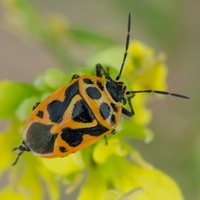insect: (12, 13, 189, 165)
